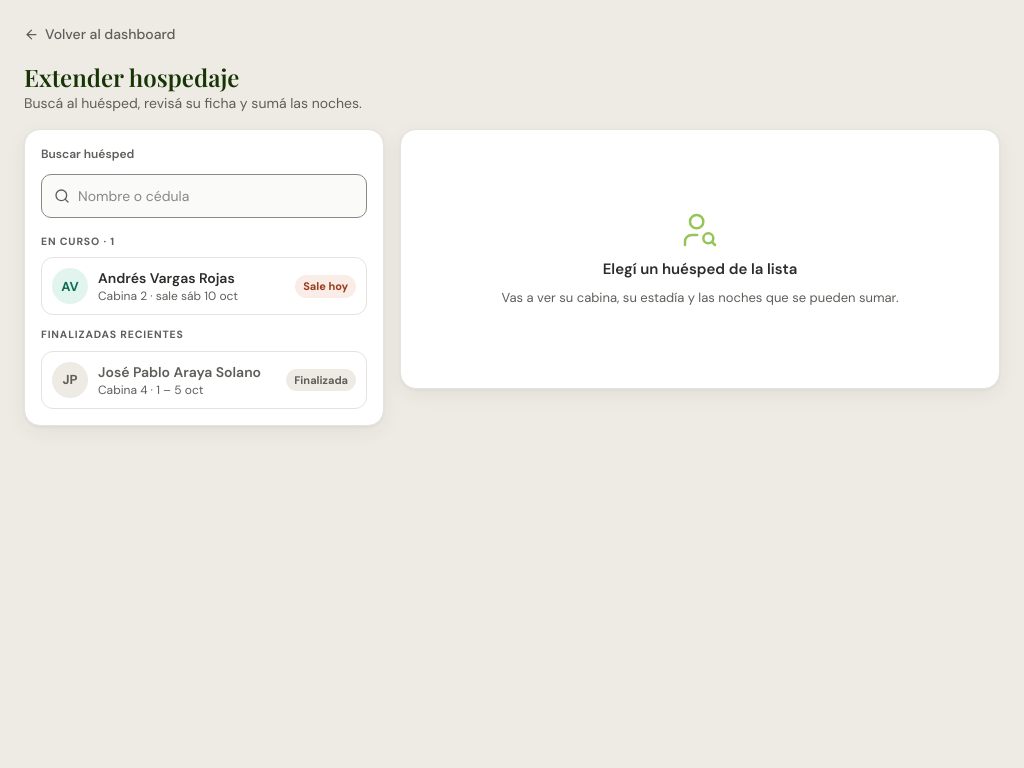
Scenario: HU-127 pantalla Extender hospedaje › CA-2: sin disponibilidad muestra el mensaje oficial y bloquea Confirmar
The image size is (1024, 768).
Click the text "Andrés Vargas Rojas".
click(166, 278)  # box [98,269,235,287]
(page scrolled)
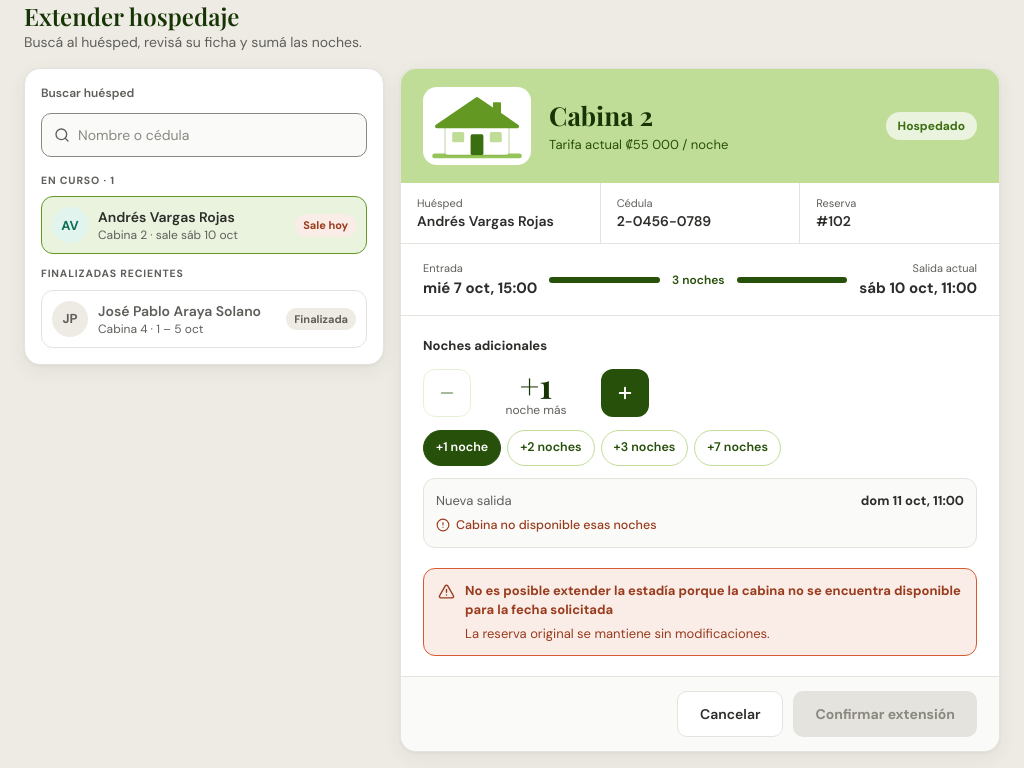
Now the text "No es posible extender la estadía porque la cabina no se encuentra disponible para la fecha solicitada" is shown, box [465,582,961,618]
Now the text "La reserva original se mantiene sin modificaciones." is shown, box [465,625,770,642]
Now the button "Confirmar extensión" is disabled, box [794,691,977,737]
